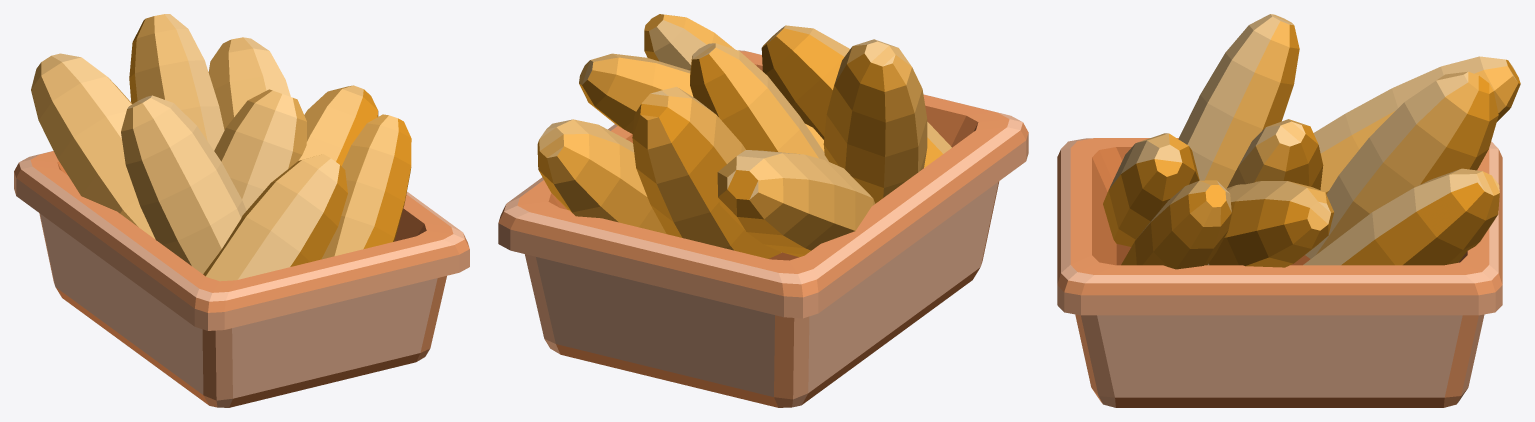
The model's file is BAKE_INT_L2_BaguetteBasket_01.fbx.
The picture shows the model from 3 angles, left to right: view 1: azimuth 30°, elevation 25°; view 2: azimuth 150°, elevation 25°; view 3: azimuth 270°, elevation 25°; orthographic projection. The views are drawn at different scales.
Visible parts, largest first — view 1: BAKE_INT_L2_BaguetteBasket_01; view 2: BAKE_INT_L2_BaguetteBasket_01; view 3: BAKE_INT_L2_BaguetteBasket_01.
Boxes of the visible parts, x1=… form: BAKE_INT_L2_BaguetteBasket_01: x1=14, y1=14, x2=469, y2=407; BAKE_INT_L2_BaguetteBasket_01: x1=498, y1=14, x2=1028, y2=407; BAKE_INT_L2_BaguetteBasket_01: x1=1057, y1=14, x2=1520, y2=407.
Size of the model in its own units: 0.3907 by 0.3452 by 0.5035.
